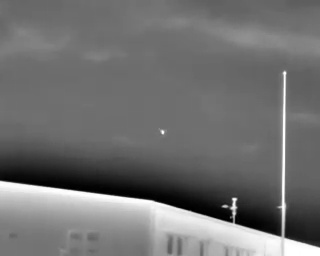HELICOPTER: (157, 126, 169, 138)
